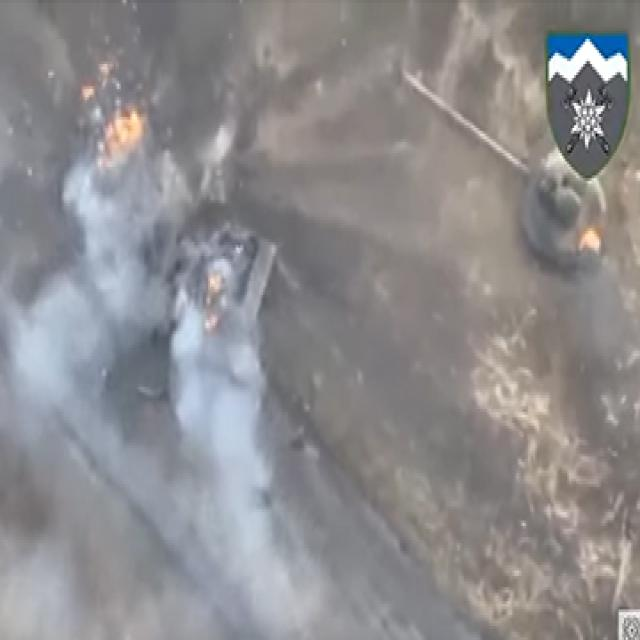cars: (164, 224, 278, 368)
